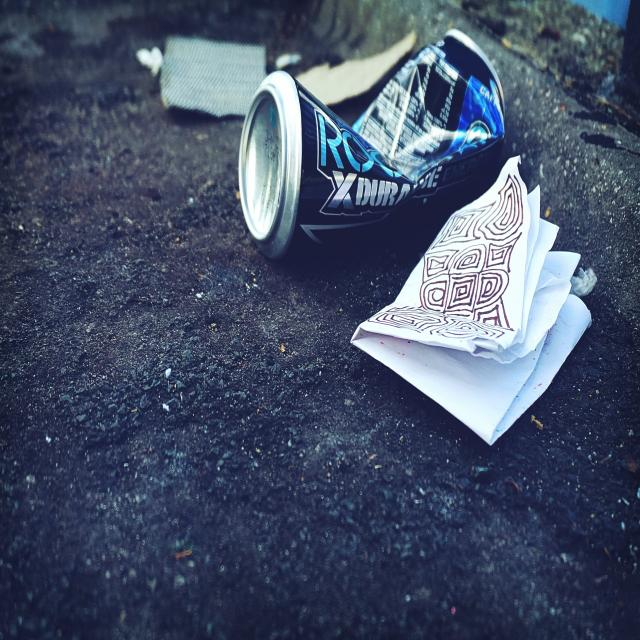metal: (272, 58, 490, 225)
paper: (431, 235, 547, 419)
